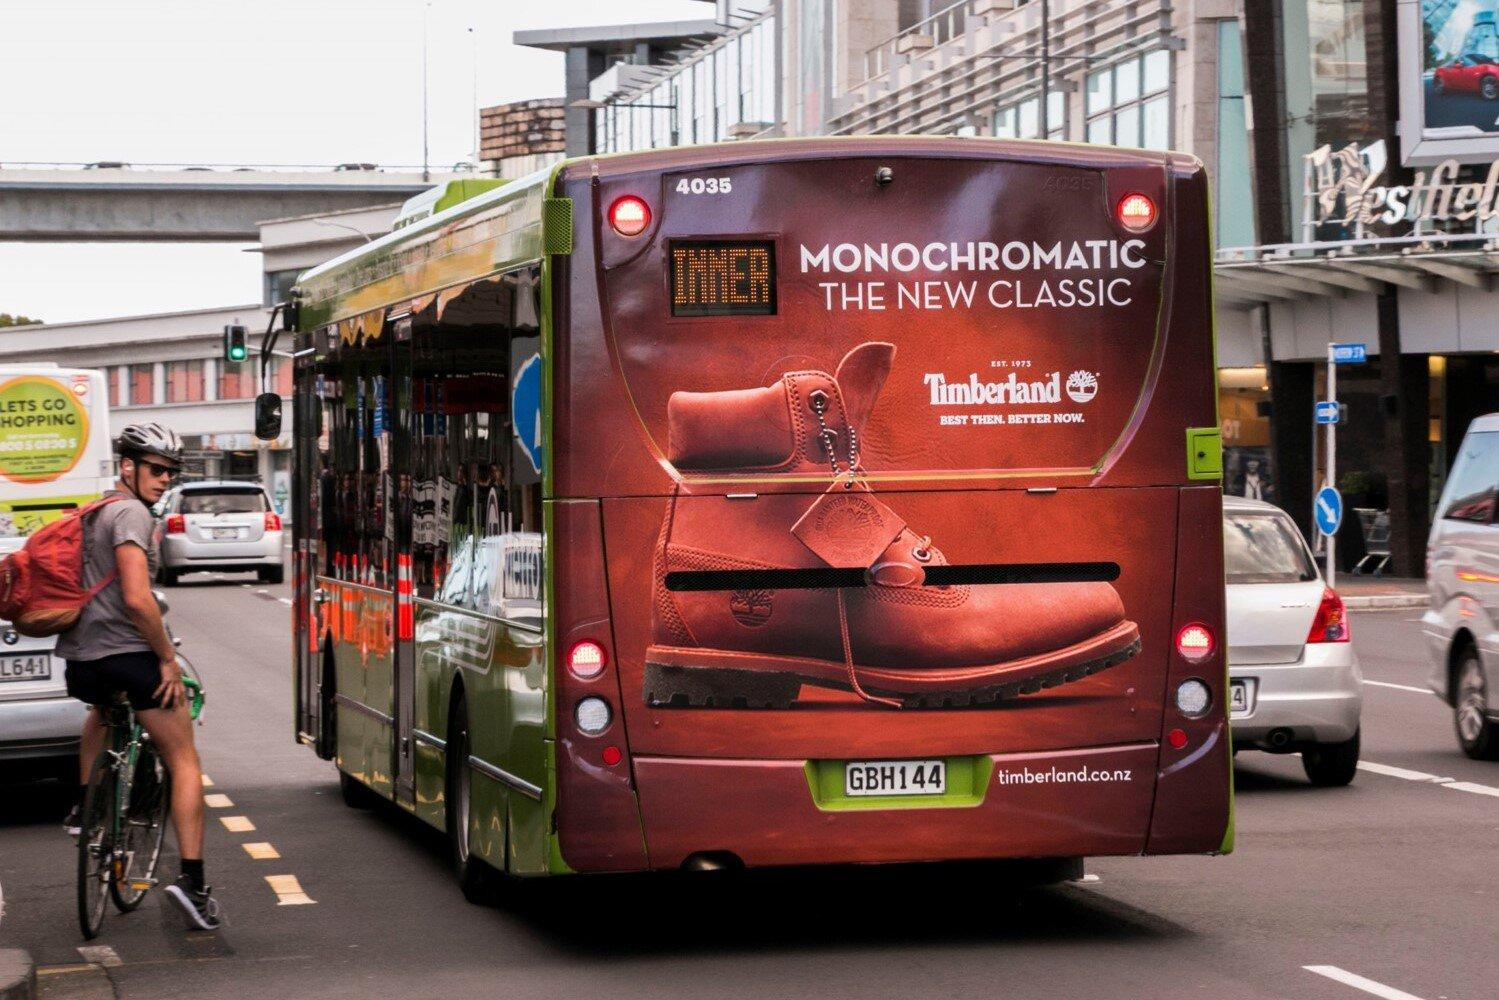bus: (253, 135, 1275, 905)
